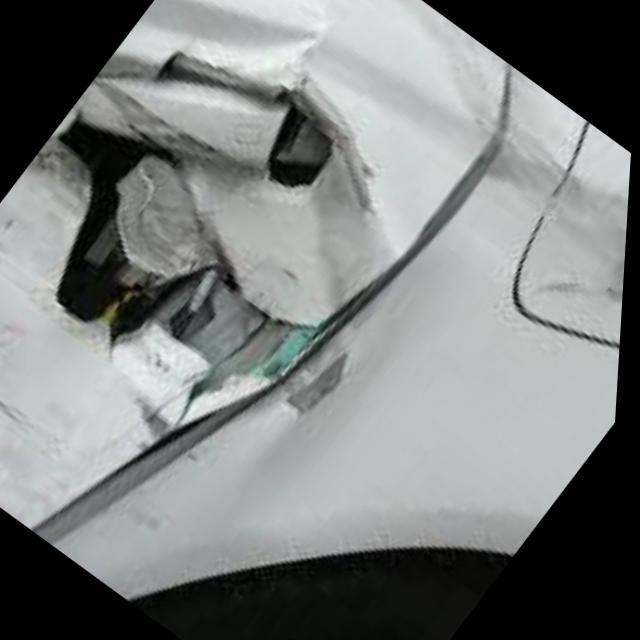crack: (14, 0, 633, 414)
